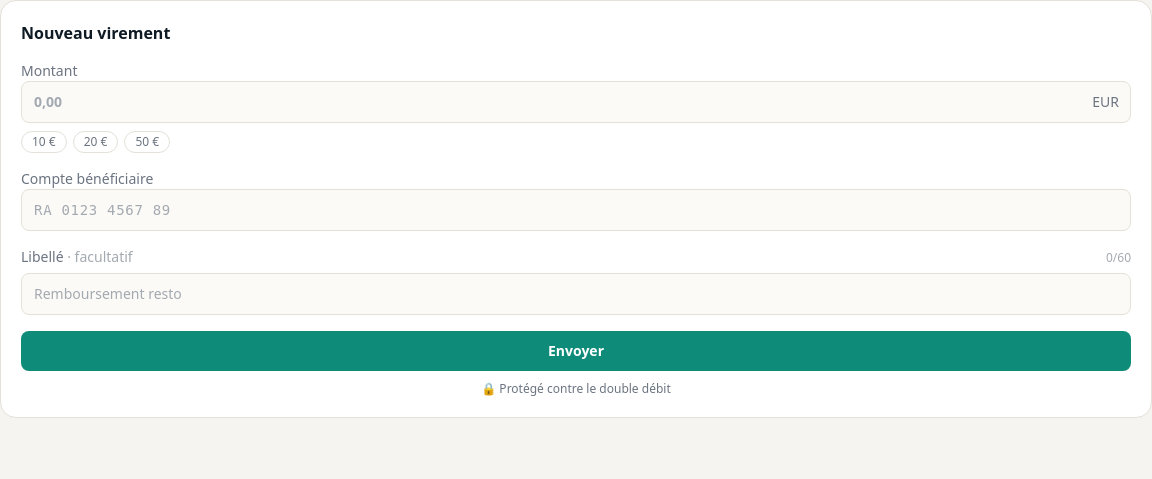
Test: TransferForm : validation › efface le message d'un champ dès qu'on le corrige, sans toucher aux autres
Click the button "Envoyer".
click(576, 351)  # box top-left (21, 331), bottom-right (1131, 371)
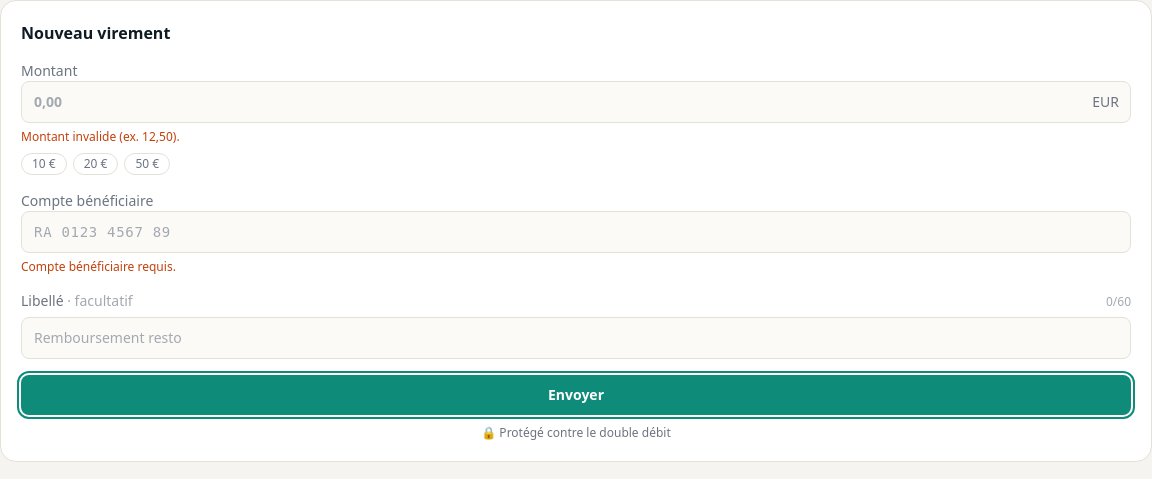
Type "5" into the field labelled "Montant EUR Montant invalide (ex. 12,50).".
click(576, 102); type("5")  # box top-left (21, 81), bottom-right (1131, 123)
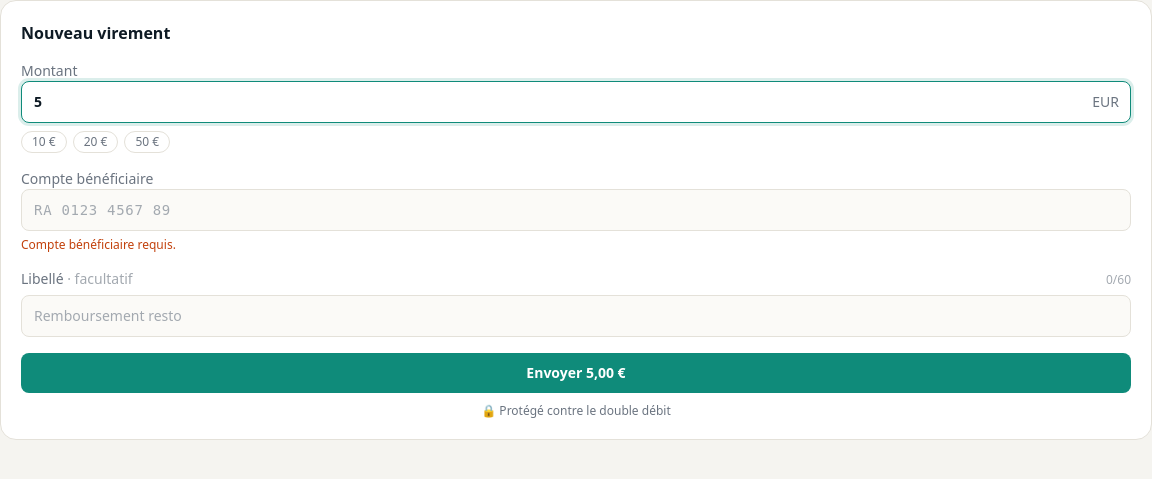
Now the text "Compte bénéficiaire requis." is shown, box top-left (21, 236), bottom-right (176, 253)
Now the text "Montant invalide (ex. 12,50)." is gone
